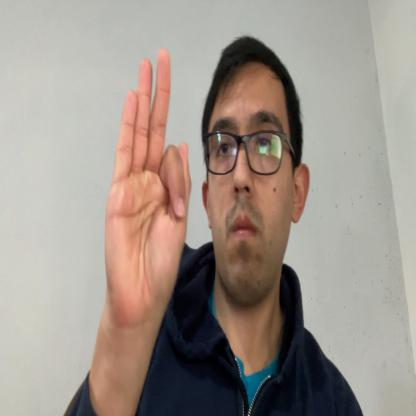F: (105, 48, 191, 326)
